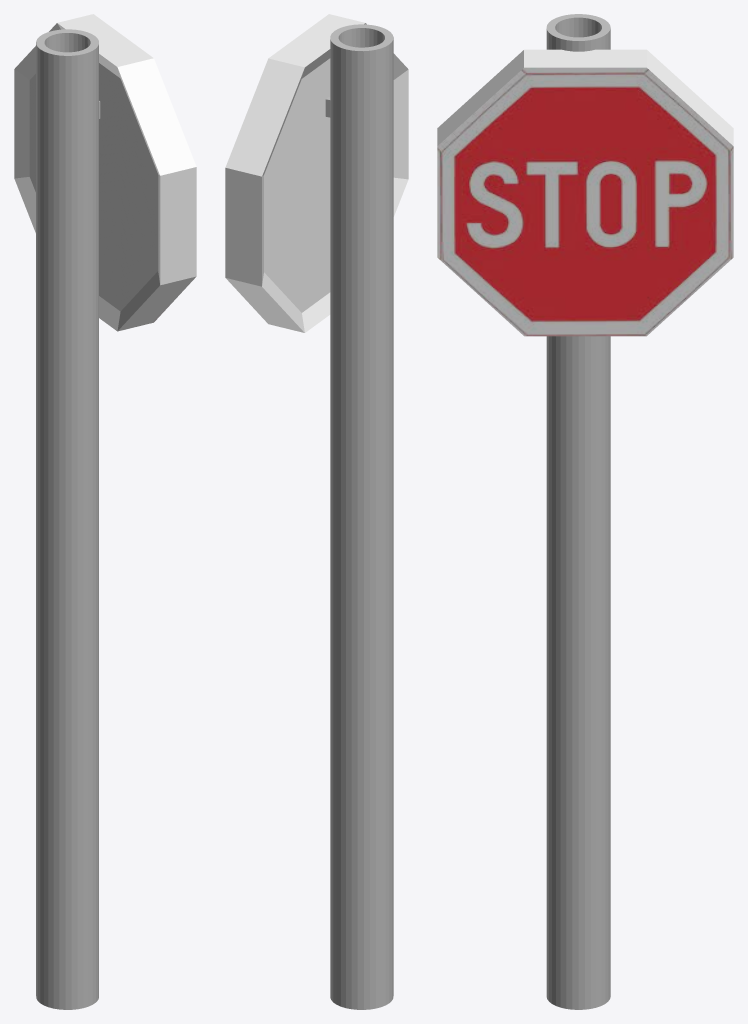
The model's file is StopMerkki.fbx.
The picture shows the model from 3 angles, left to right: view 1: azimuth 30°, elevation 25°; view 2: azimuth 150°, elevation 25°; view 3: azimuth 270°, elevation 25°; orthographic projection.
Visible parts, largest first — view 1: yksinkertainenTolppa, LiikenneMerkki4; view 2: yksinkertainenTolppa, LiikenneMerkki4; view 3: LiikenneMerkki4, yksinkertainenTolppa.
Part boxes in pixels (bbox=[...]): yksinkertainenTolppa: bbox=[36, 29, 100, 1009]; LiikenneMerkki4: bbox=[14, 14, 196, 331]; yksinkertainenTolppa: bbox=[325, 24, 393, 1009]; LiikenneMerkki4: bbox=[225, 14, 408, 332]; LiikenneMerkki4: bbox=[437, 49, 733, 336]; yksinkertainenTolppa: bbox=[546, 14, 610, 1009].
Size of the model in its own units: 23.81 by 250 by 69.29.
